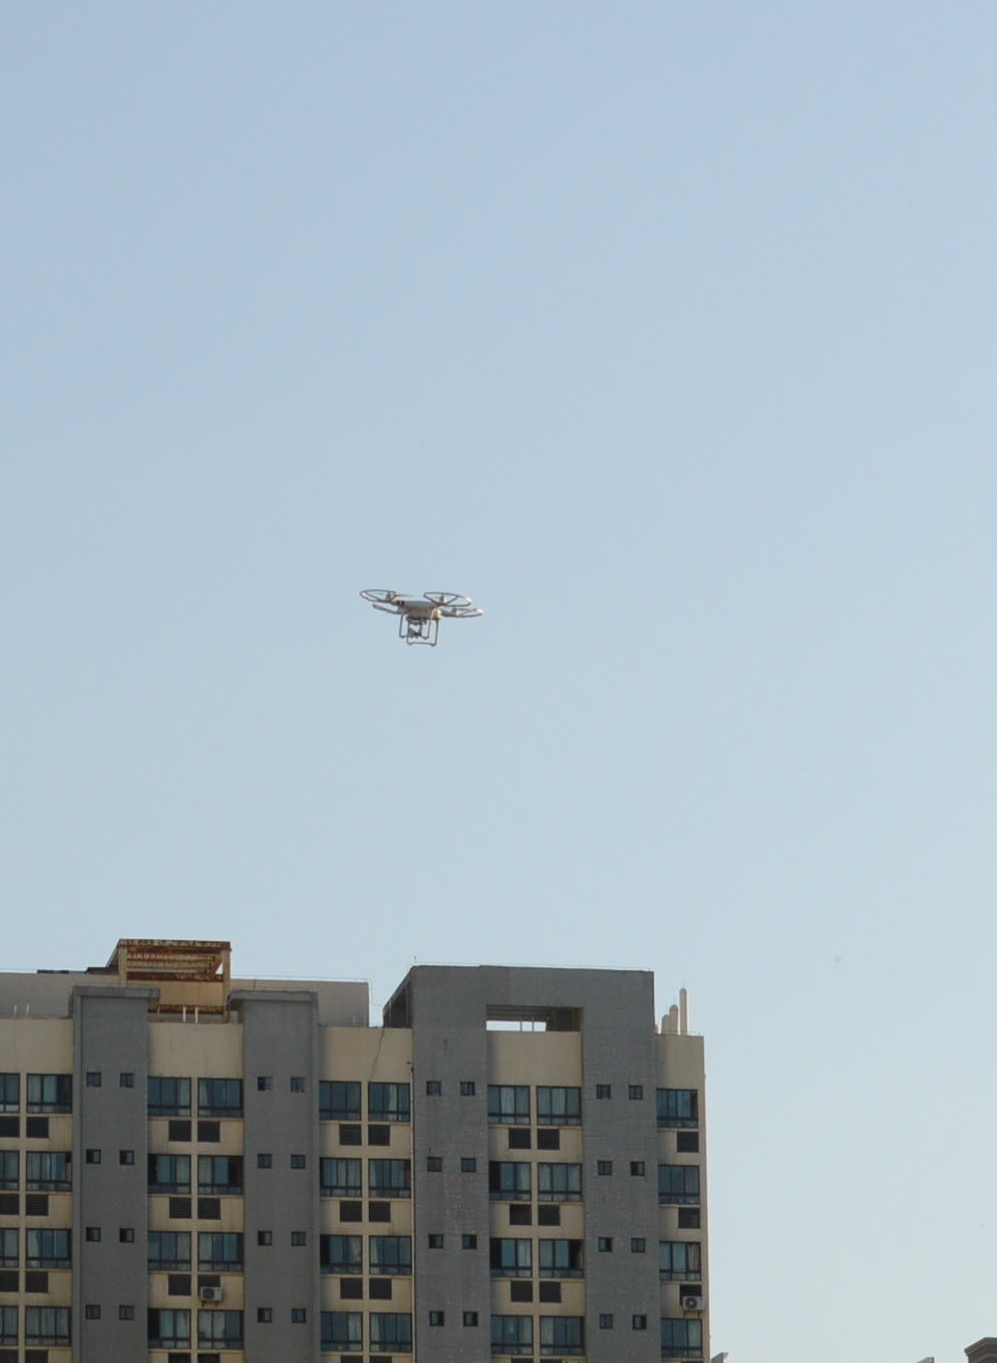DJI: (360, 579, 485, 655)
